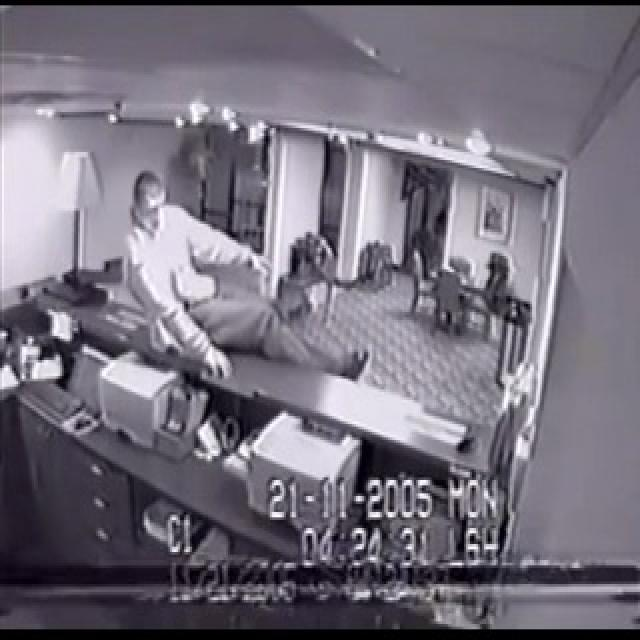thief: (127, 168, 360, 444)
